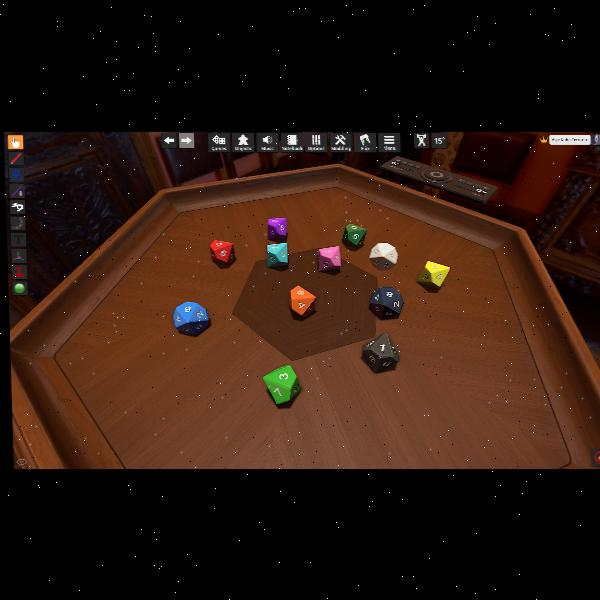d10: (262, 364, 300, 404), (362, 332, 399, 372), (173, 300, 210, 336), (368, 286, 401, 318), (288, 284, 315, 318), (417, 260, 449, 288), (369, 242, 396, 270), (317, 245, 340, 271), (342, 224, 366, 246), (210, 240, 233, 262), (267, 242, 288, 266), (266, 217, 287, 241)
